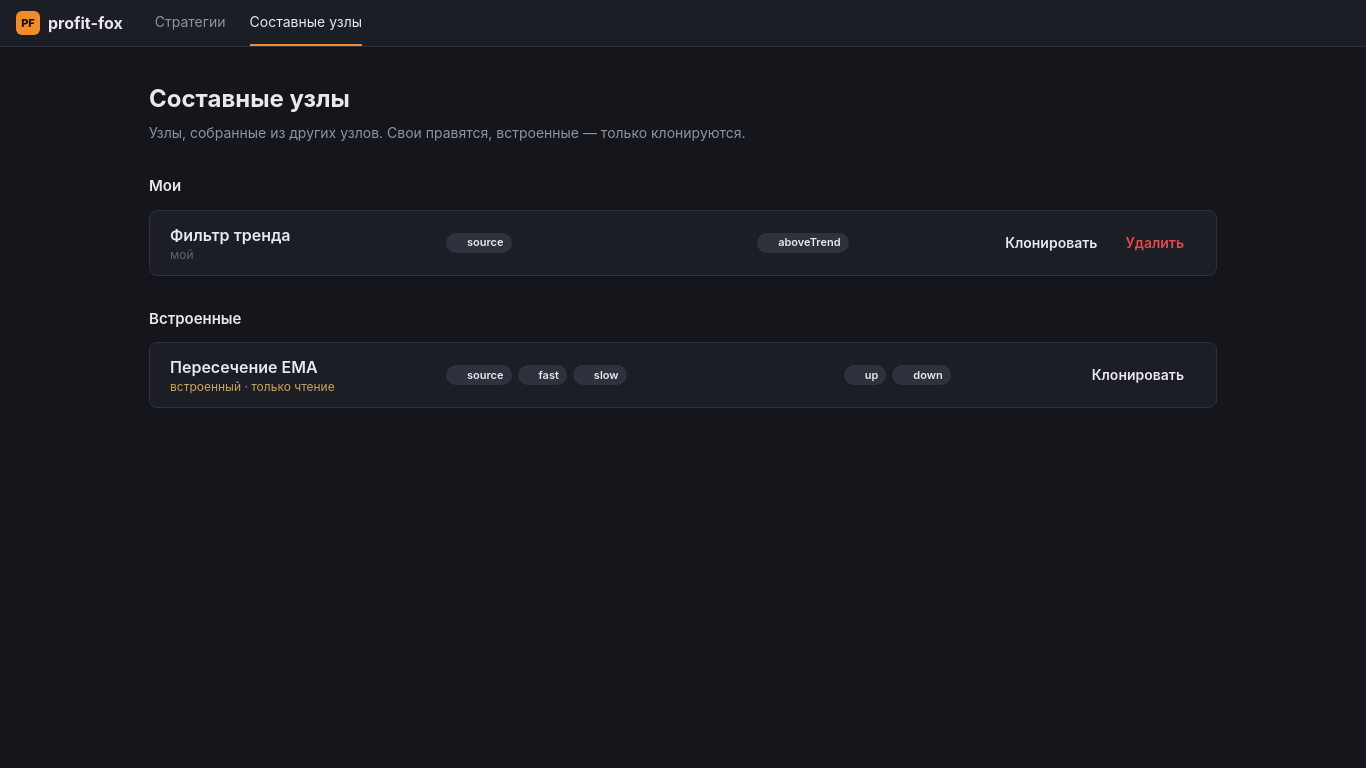
Test: composite node list › keeps a node that a strategy uses and names the strategy
Click the button with aria-label "Удалить: Фильтр тренда": (1155, 242) [1113,226,1196,258]
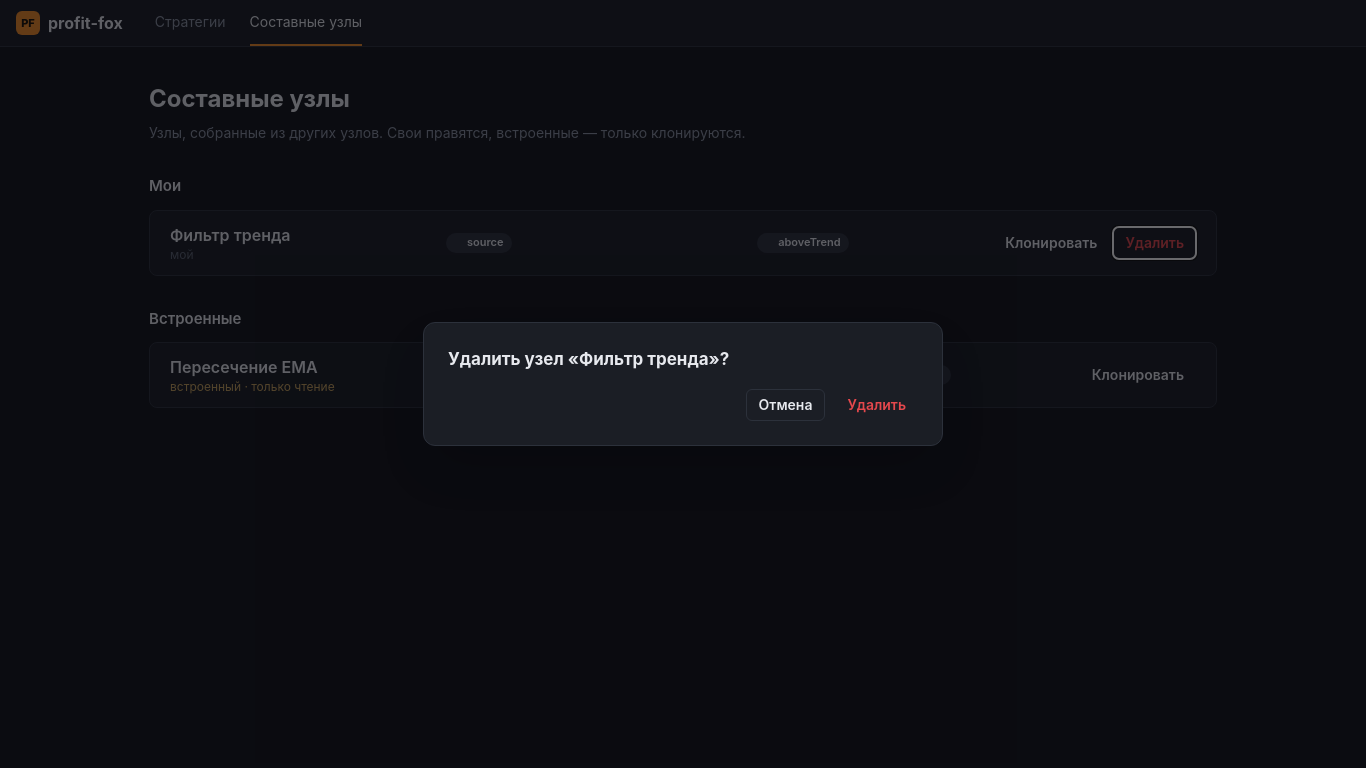
Click the button "Удалить": (877, 405) [835,389,918,421]
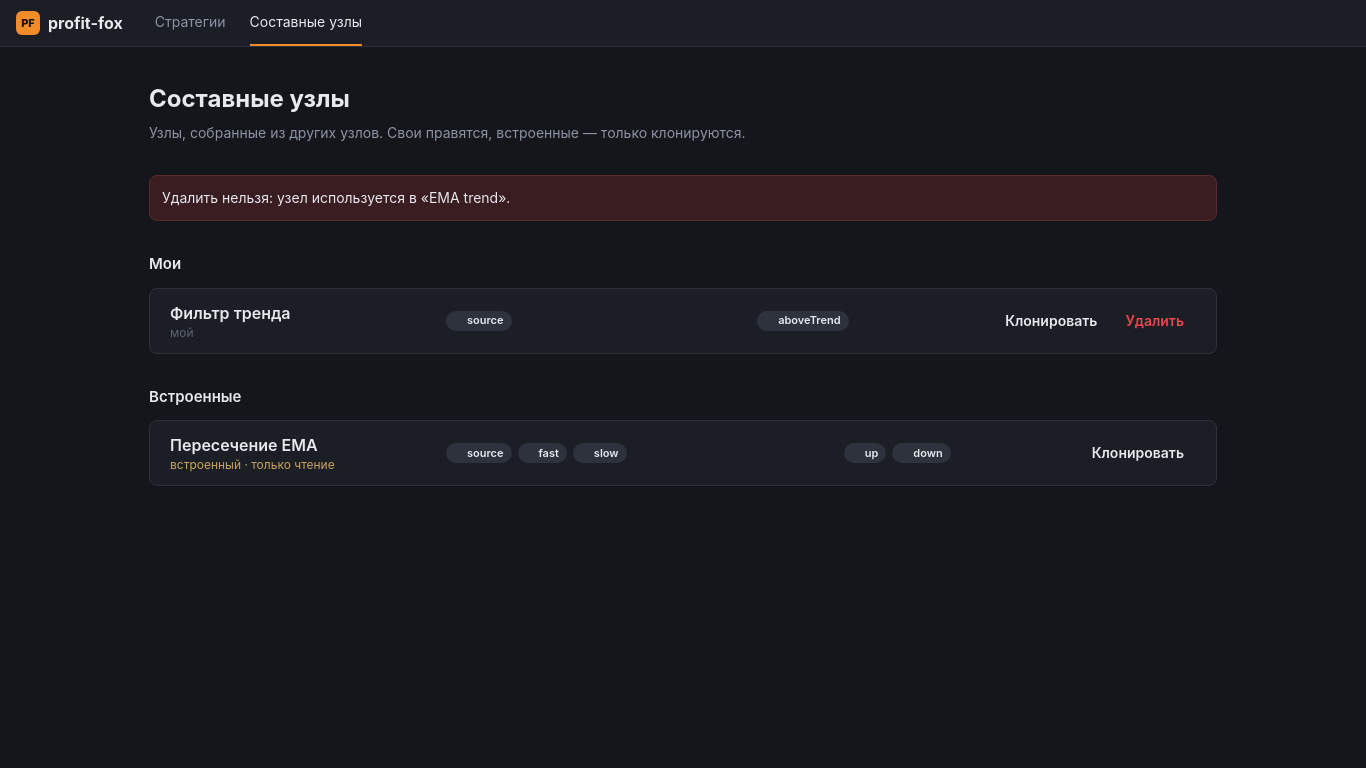
Expected: the link "Фильтр тренда" is shown, [170,302,290,322]
Expected: the message shows "Удалить нельзя", [162,189,510,206]
Expected: the message shows "EMA trend", [162,189,510,206]
